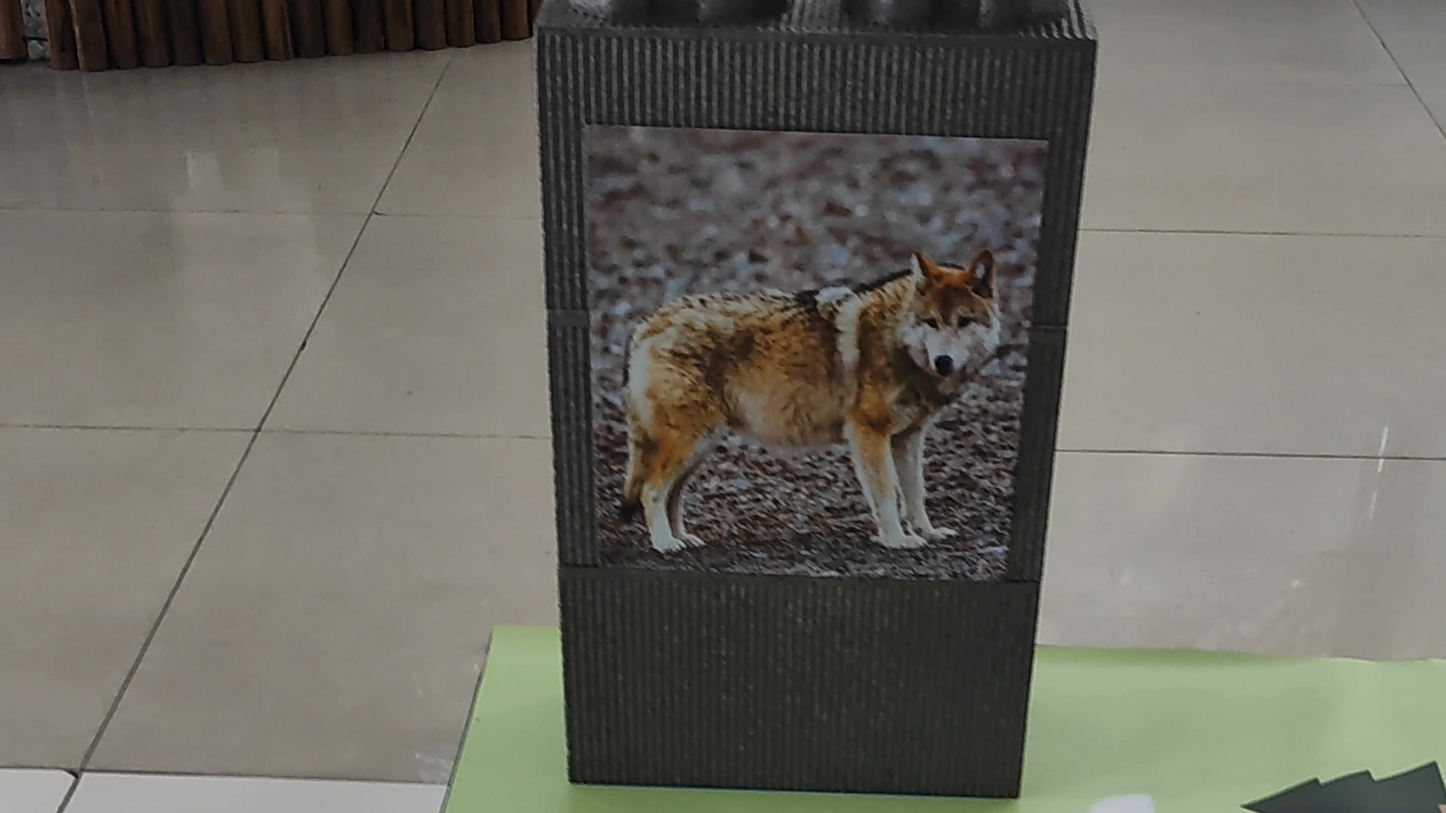wolf: (619, 182, 1003, 586)
